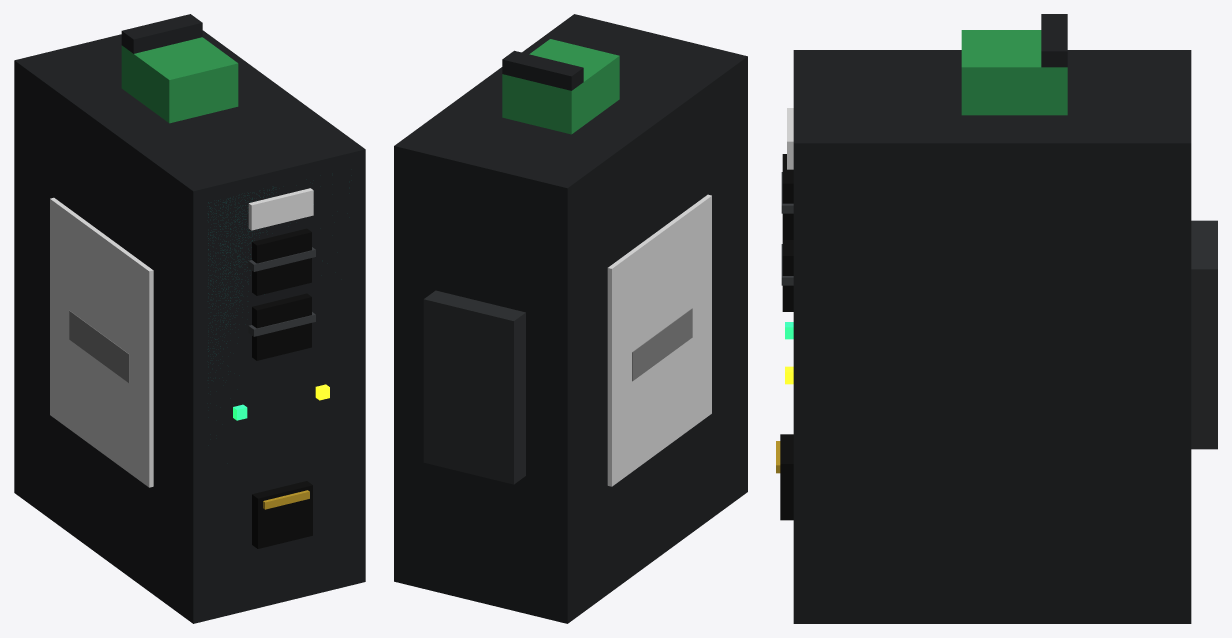
File: 35-moxa-imc-21a-media-converter.glb
3 renders of one model, left to right at view 1: azimuth 30°, elevation 25°; view 2: azimuth 150°, elevation 25°; view 3: azimuth 270°, elevation 25°, orthographic. The views are drawn at different scales.
Size of the model in its own units: 0.0514 by 0.136 by 0.1.
